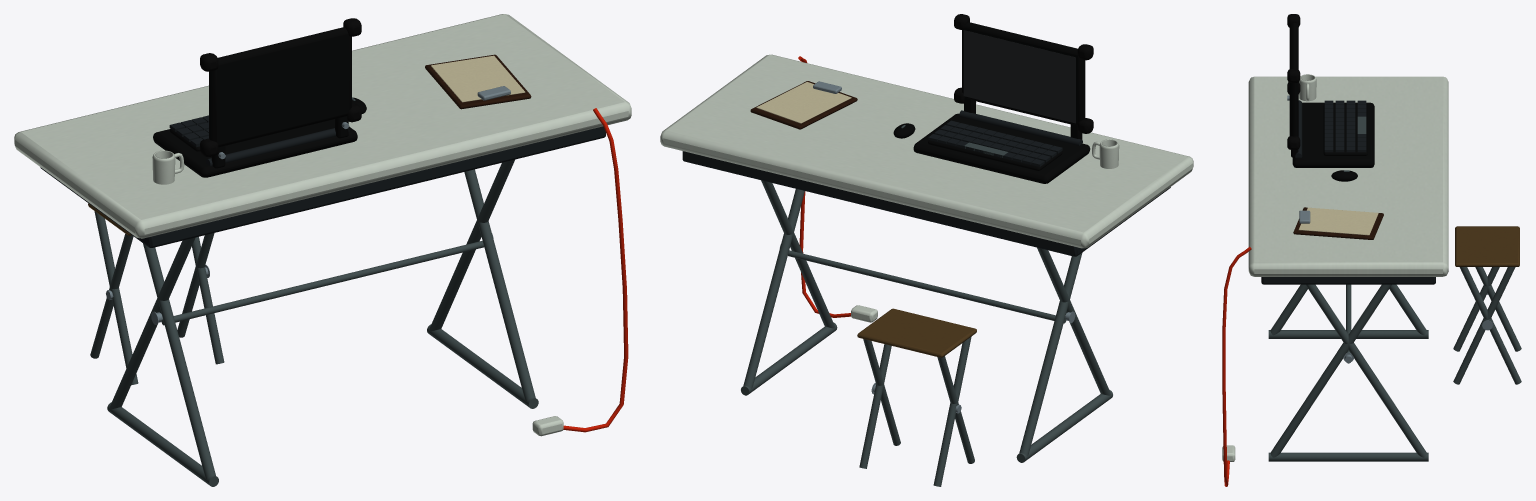
File: JobLaptopTable.gltf
The picture shows the model from 3 angles, left to right: view 1: azimuth 30°, elevation 25°; view 2: azimuth 150°, elevation 25°; view 3: azimuth 270°, elevation 25°; orthographic projection. The views are drawn at different scales.
Parts seen in each view (by area): view 1: JobLaptopTable__Top, JobLaptopTable__Clutter, JobLaptopTable__Body, JobLaptopTable__Leg_-1, JobLaptopTable, JobLaptopTable__Chair; view 2: JobLaptopTable__Top, JobLaptopTable__Clutter, JobLaptopTable__Screen, JobLaptopTable__Chair, JobLaptopTable__Body, JobLaptopTable__Leg_-1, JobLaptopTable; view 3: JobLaptopTable__Top, JobLaptopTable__Clutter, JobLaptopTable__Chair, JobLaptopTable, JobLaptopTable__Leg_-1, JobLaptopTable__Body.
Part boxes in pixels (x1,y1,x2,y2): JobLaptopTable__Top: [14, 14, 631, 238]; JobLaptopTable__Clutter: [152, 18, 628, 436]; JobLaptopTable__Body: [40, 126, 605, 325]; JobLaptopTable__Leg_-1: [107, 237, 218, 486]; JobLaptopTable: [427, 159, 538, 408]; JobLaptopTable__Chair: [88, 203, 224, 385]; JobLaptopTable__Top: [660, 54, 1193, 248]; JobLaptopTable__Clutter: [750, 14, 1119, 322]; JobLaptopTable__Screen: [963, 30, 1075, 123]; JobLaptopTable__Chair: [857, 308, 976, 486]; JobLaptopTable__Body: [682, 151, 1170, 323]; JobLaptopTable__Leg_-1: [1016, 247, 1112, 462]; JobLaptopTable: [741, 180, 837, 395]; JobLaptopTable__Top: [1248, 76, 1448, 276]; JobLaptopTable__Clutter: [1222, 14, 1383, 486]; JobLaptopTable__Chair: [1453, 226, 1521, 384]; JobLaptopTable: [1268, 284, 1428, 461]; JobLaptopTable__Leg_-1: [1268, 284, 1428, 338]; JobLaptopTable__Body: [1261, 277, 1435, 363].
Size of the model in its own units: 1.26 by 1.04 by 0.8393.
2 materials, 1 textured.
